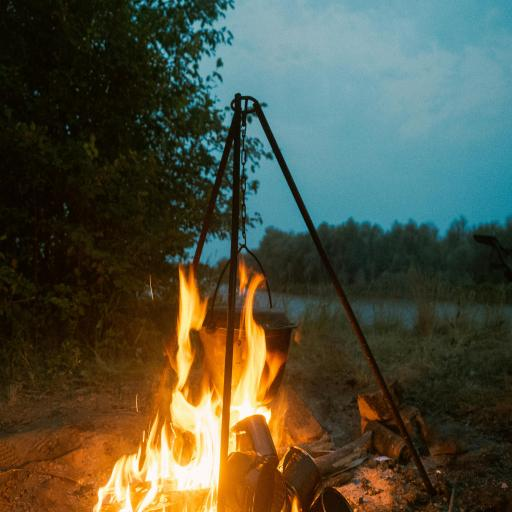campfire: (0, 214, 396, 512)
